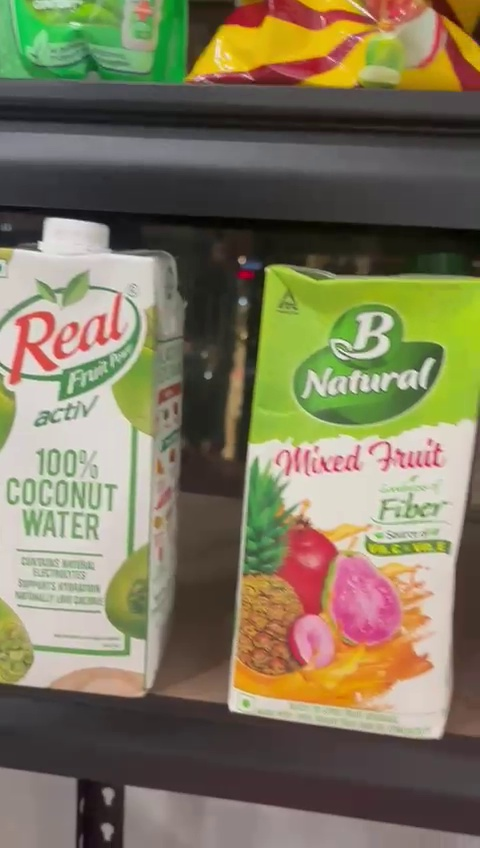Coconut water: (0, 221, 185, 694)
Mixed Fruit: (248, 271, 480, 734)
